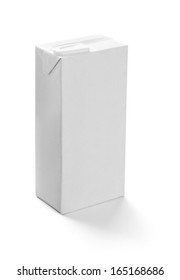carton: (25, 27, 137, 233)
